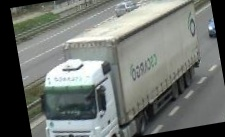truck: (27, 0, 213, 137)
